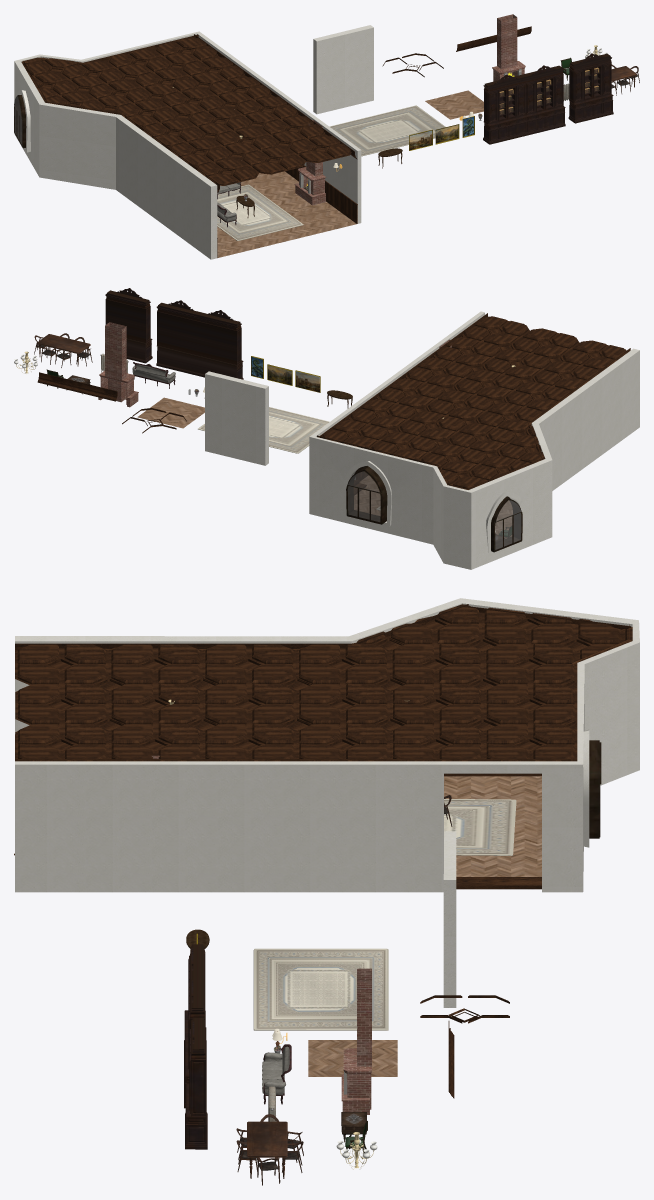
The model's file is modular_vintage_living_room_-_game_ready_pbr_COMPRESSED.glb.
3 renders of one model, top to bottom at view 1: azimuth 30°, elevation 25°; view 2: azimuth 150°, elevation 25°; view 3: azimuth 270°, elevation 25°, orthographic. The views are drawn at different scales.
Visible parts, largest first — view 1: Object_27, Object_79, Object_4, Object_18, Object_56, Object_29, Object_8, Object_102, Object_32, Object_14, Object_16; view 2: Object_79, Object_27, Object_4, Object_102, Object_56, Object_29, Object_18, Object_32, Object_8, Object_14; view 3: Object_79, Object_27, Object_18, Object_56, Object_4, Object_29, Object_32, Object_102, Object_14.
Part boxes in pixels (x1,y1,x2,y2): Object_27: (21, 26, 531, 257); Object_79: (14, 25, 373, 259); Object_4: (483, 53, 613, 144); Object_18: (217, 105, 445, 240); Object_56: (217, 90, 483, 257); Object_29: (294, 14, 525, 205); Object_8: (409, 116, 474, 150); Object_102: (14, 95, 26, 148); Object_32: (611, 64, 639, 95); Object_14: (217, 182, 241, 227); Object_16: (236, 116, 482, 217); Object_79: (205, 311, 639, 569); Object_27: (37, 313, 630, 495); Object_4: (105, 288, 243, 379); Object_102: (346, 466, 522, 552); Object_56: (137, 397, 512, 538); Object_29: (98, 322, 451, 407); Object_18: (198, 407, 380, 510); Object_32: (34, 333, 92, 367); Object_8: (251, 356, 320, 392); Object_14: (132, 362, 175, 388); Object_79: (15, 598, 639, 1007); Object_27: (14, 604, 632, 1098); Object_18: (253, 799, 516, 1030); Object_56: (308, 776, 541, 1076); Object_4: (184, 944, 207, 1149); Object_29: (151, 755, 371, 1114); Object_32: (236, 795, 452, 1185); Object_102: (565, 724, 601, 838); Object_14: (262, 1044, 291, 1104).
Bounding box in the file's own units: 37.31 × 4.8 × 21.23.
21 materials, 21 textured.
